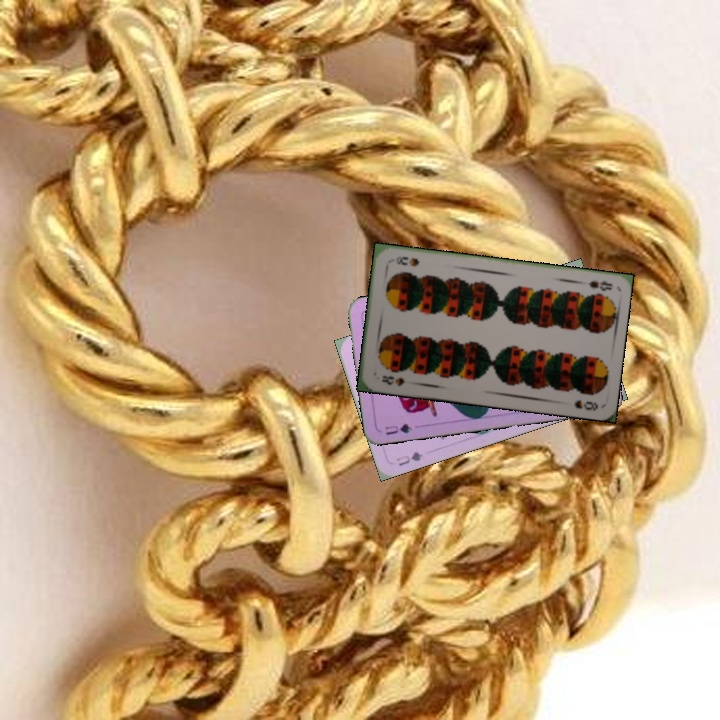GU: (392, 447, 426, 469), (381, 419, 415, 437)
S8: (584, 276, 615, 294), (377, 371, 407, 389)
